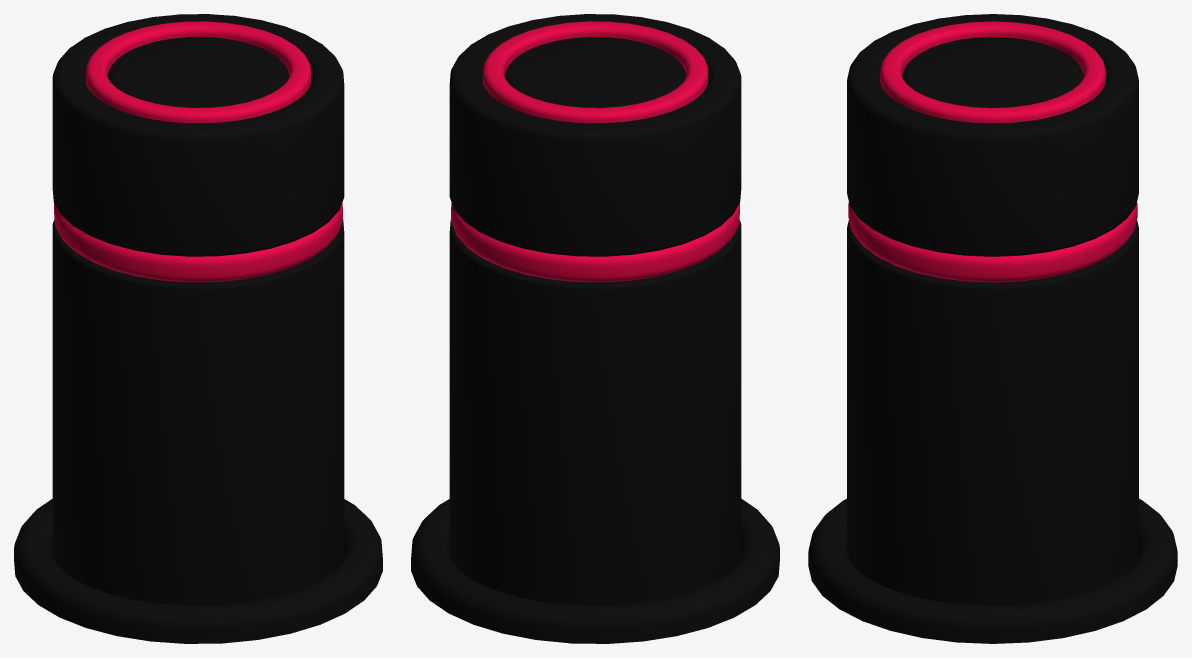
File: WaterSprinkler.fbx
3 renders of one model, left to right at view 1: azimuth 30°, elevation 25°; view 2: azimuth 150°, elevation 25°; view 3: azimuth 270°, elevation 25°, orthographic.
Visible parts, largest first — view 1: Body, Bottom Ring, Top Ring, Ring; view 2: Body, Bottom Ring, Top Ring, Ring; view 3: Body, Bottom Ring, Top Ring, Ring.
Part boxes in pixels (left/top/right/bottom): Body: left=52, top=14, right=344, bottom=605; Bottom Ring: left=14, top=499, right=382, bottom=643; Top Ring: left=85, top=21, right=311, bottom=123; Ring: left=54, top=203, right=342, bottom=282; Body: left=449, top=14, right=741, bottom=605; Bottom Ring: left=411, top=499, right=779, bottom=643; Top Ring: left=482, top=21, right=708, bottom=123; Ring: left=451, top=203, right=739, bottom=282; Body: left=847, top=14, right=1138, bottom=605; Bottom Ring: left=808, top=498, right=1177, bottom=643; Top Ring: left=879, top=21, right=1106, bottom=123; Ring: left=848, top=202, right=1137, bottom=282.
Size of the model in its own units: 113 by 168 by 113.
